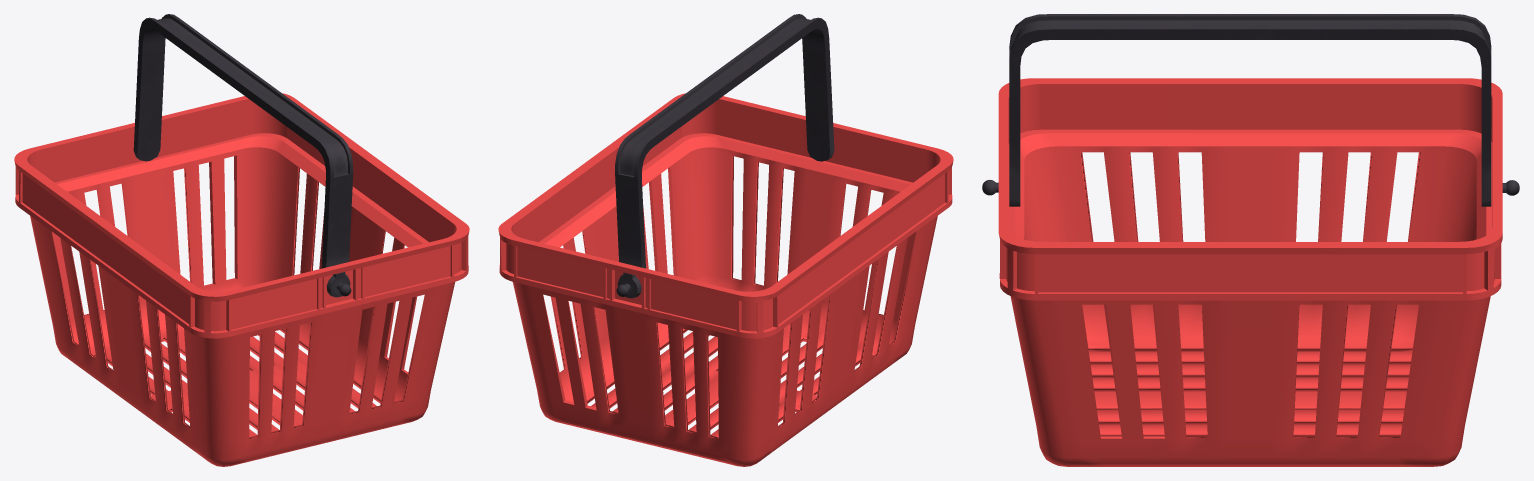
Rendered from shopping_basket_reverse_grip-DAyI4NIQ.glb.
3 views of the same model, side by side, from view 1: azimuth 30°, elevation 25°; view 2: azimuth 150°, elevation 25°; view 3: azimuth 270°, elevation 25° (orthographic). The views are drawn at different scales.
Parts seen in each view (by area): view 1: Cart8, Handle; view 2: Cart8, Handle; view 3: Cart8, Handle.
Boxes of the visible parts, <box> form: Cart8: <box>14,93,469,466</box>; Handle: <box>133,14,353,268</box>; Cart8: <box>498,93,953,466</box>; Handle: <box>615,14,834,268</box>; Cart8: <box>982,78,1519,466</box>; Handle: <box>1009,14,1491,206</box>.
Bounding box in the file's own units: 0.0872 × 0.0929 × 0.1166.
1 material, 1 textured.
